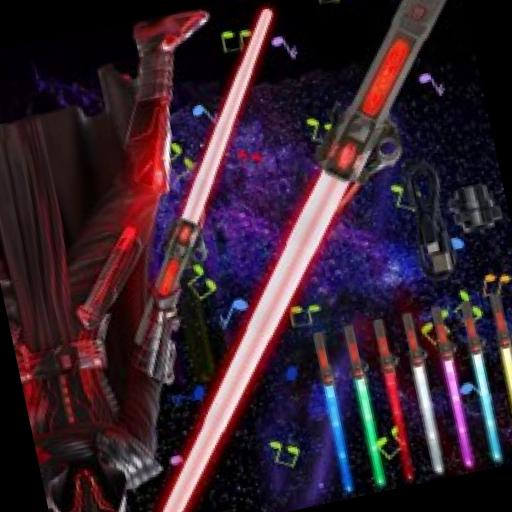lightsaber: (426, 300, 481, 470), (396, 310, 452, 474), (305, 334, 363, 492), (455, 300, 509, 462), (338, 323, 390, 488), (482, 291, 512, 460)
sith saber: (57, 0, 512, 512), (68, 9, 337, 350), (366, 318, 420, 480)
